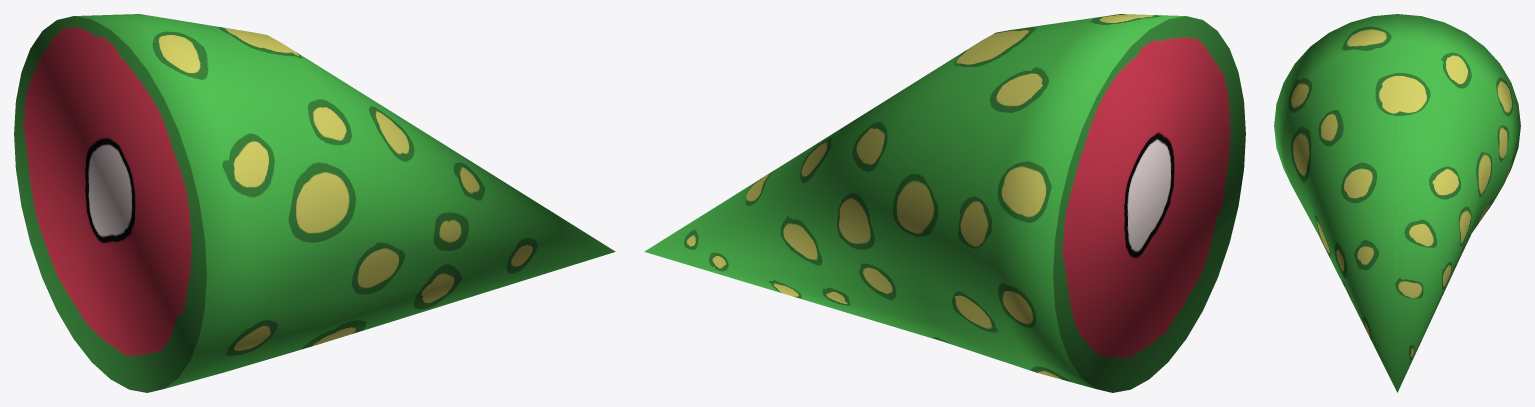
File: snaketailend.fbx
3 views of the same model, side by side, from view 1: azimuth 30°, elevation 25°; view 2: azimuth 150°, elevation 25°; view 3: azimuth 270°, elevation 25° (orthographic). The views are drawn at different scales.
Visible parts, largest first — view 1: Cone; view 2: Cone; view 3: Cone.
Boxes of the visible parts, x1,y1,x2,y2 form: Cone: (14,14,615,392); Cone: (644,14,1245,392); Cone: (1274,14,1520,392).
Bounding box in the file's own units: 303 × 200 × 200.
Materials: 1 (1 with a texture image).
